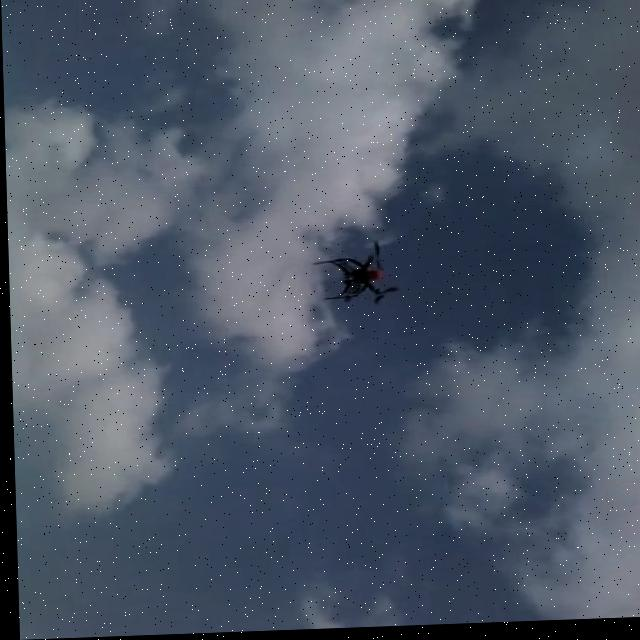drone: (313, 239, 402, 309)
